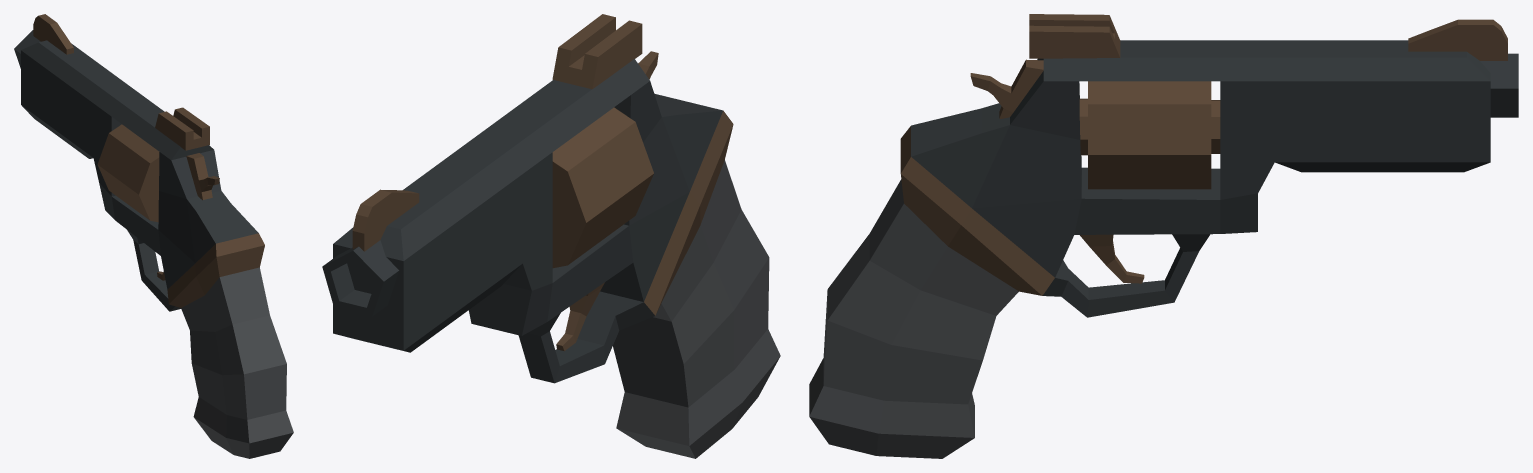
File: magnum_44.obj
The picture shows the model from 3 angles, left to right: view 1: azimuth 30°, elevation 25°; view 2: azimuth 150°, elevation 25°; view 3: azimuth 270°, elevation 25°; orthographic projection. The views are drawn at different scales.
Visible parts, largest first — view 1: Magnum_44_Cube.001; view 2: Magnum_44_Cube.001; view 3: Magnum_44_Cube.001.
Boxes of the visible parts, <box> form: Magnum_44_Cube.001: <box>14,14,293,458</box>; Magnum_44_Cube.001: <box>322,14,780,458</box>; Magnum_44_Cube.001: <box>809,14,1518,458</box>.
Bounding box in the file's own units: 0.0481 × 0.1702 × 0.2569.
